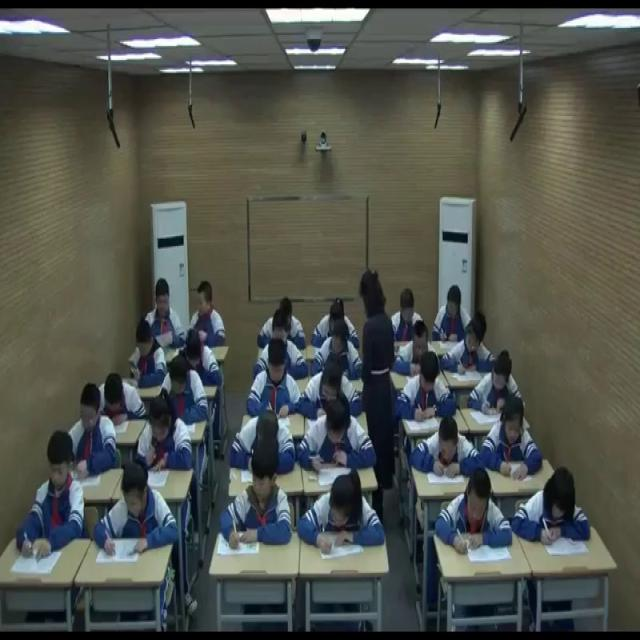distracted: (184, 275, 228, 348)
focused: (18, 428, 83, 567), (215, 447, 291, 560), (91, 464, 177, 563), (298, 472, 383, 559), (512, 468, 596, 552), (436, 477, 511, 564), (294, 393, 376, 470), (482, 396, 551, 484), (228, 409, 297, 480), (133, 391, 193, 472), (66, 382, 117, 477), (409, 420, 482, 483), (296, 354, 367, 417), (471, 349, 530, 421), (396, 357, 459, 423), (245, 344, 304, 414), (255, 309, 309, 383), (145, 272, 191, 354), (309, 326, 365, 385), (164, 353, 208, 427), (95, 370, 146, 433), (452, 317, 499, 381), (126, 320, 168, 390), (307, 296, 359, 351), (177, 328, 224, 387), (433, 288, 475, 346), (258, 299, 303, 351), (398, 325, 442, 377), (389, 290, 429, 344)
